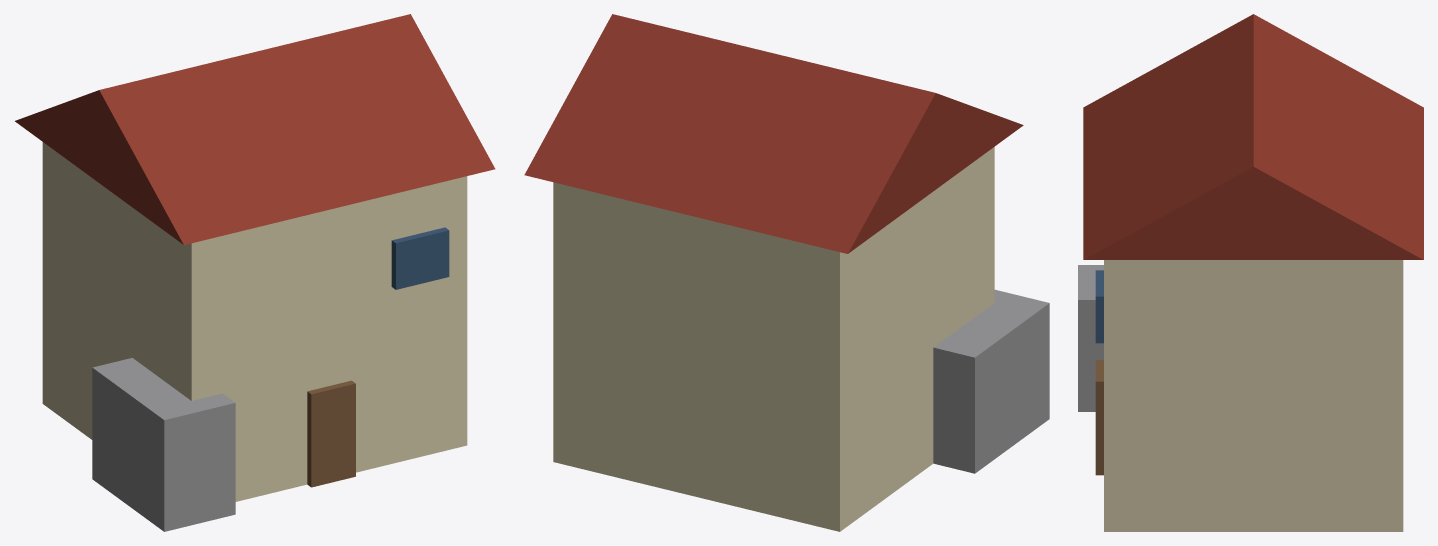
File: house_1985.glb
The picture shows the model from 3 angles, left to right: view 1: azimuth 30°, elevation 25°; view 2: azimuth 150°, elevation 25°; view 3: azimuth 270°, elevation 25°; orthographic projection. The views are drawn at different scales.
Parts seen in each view (by area): view 1: Walls, Roof, Garage, Door, Window; view 2: Walls, Roof, Garage; view 3: Walls, Roof, Garage, Door, Window.
Part boxes in pixels (x1,y1,x2,y2): Walls: (42,142,467,501); Roof: (15,14,495,244); Garage: (92,358,235,531); Door: (307,380,355,487); Window: (391,227,449,289); Walls: (553,147,994,531); Roof: (524,14,1023,253); Garage: (933,289,1049,473); Walls: (1104,260,1403,531); Roof: (1083,14,1423,259); Garage: (1078,265,1103,411); Door: (1095,360,1103,475); Window: (1095,270,1103,343).
Size of the model in its own units: 0.75 by 0.8 by 0.67.
